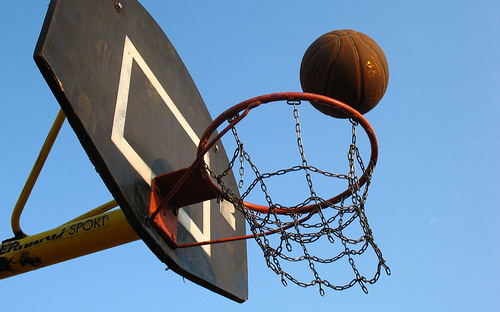basketball: (296, 29, 391, 118)
